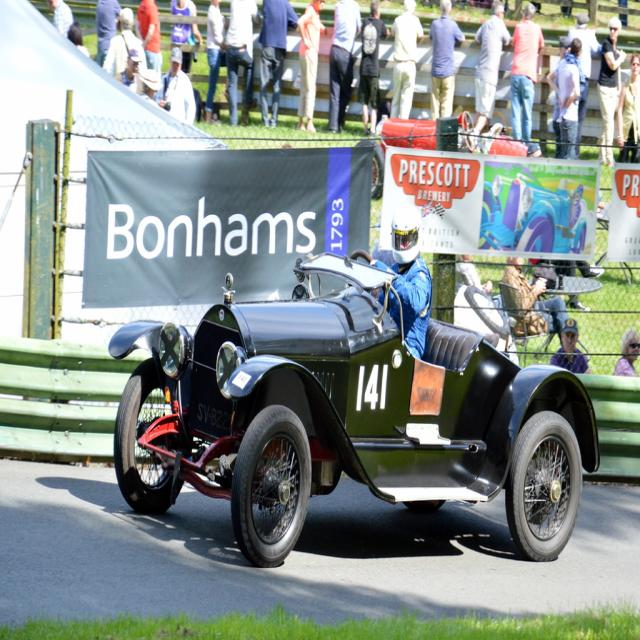car: (105, 233, 572, 583), (480, 171, 586, 255)
